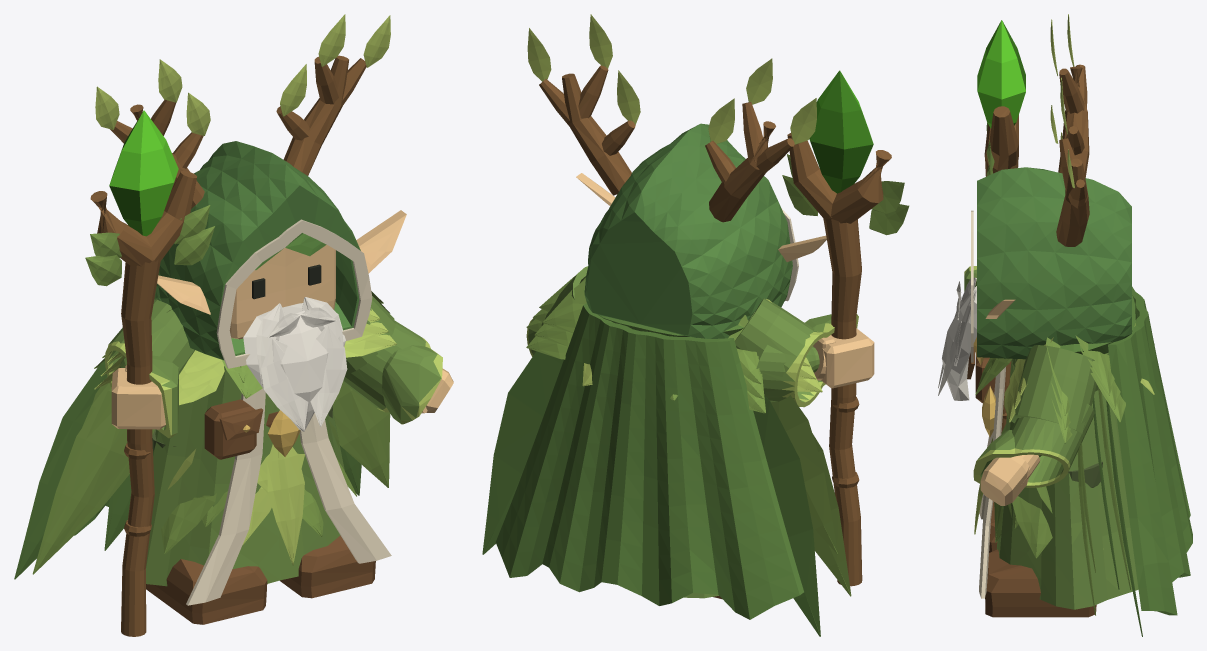
The model's file is eldergrove.glb.
3 views of the same model, side by side, from view 1: azimuth 30°, elevation 25°; view 2: azimuth 150°, elevation 25°; view 3: azimuth 270°, elevation 25° (orthographic). The views are drawn at different scales.
Parts seen in each view (by area): view 1: Hood — peaked source fold facets and closed fitted inner cav, Robe — connected shaped bell with coherent radial cloth fold, RIGHT staff — connected bent living wood shaft, RIGHT outer diagonal cloak leaf fan 2, LEFT nature arm — full outer sleeve with open fitted wrist c, Staff source primary large faceted focus, RIGHT robe broad flat pointed panel border, Head — one continuous bevelled jaw cheek forehead and concea, LEFT robe broad flat pointed panel border, Hood — broad light cloth face border with unchanged aperture, RIGHT boot — broad source angular toe ankle and fitted shaft, RIGHT staff arm — full outer sleeve with open fitted wrist c (+34 smaller); view 2: Cape — connected draped folded rear fabric with source scall, Hood — peaked source fold facets and closed fitted inner cav, RIGHT staff — connected bent living wood shaft, LEFT cloak overlapping long leaf fold 3, RIGHT cloak overlapping long leaf fold 3, RIGHT staff arm — full outer sleeve with open fitted wrist c, Staff source primary large faceted focus, RIGHT outer diagonal cloak leaf fan 1, LEFT antler — shaped main branch, RIGHT staff arm hand — compact source grip palm and thumb so, RIGHT antler — shaped main branch, RIGHT staff fork — substantial tapering wood branch (+19 smaller); view 3: Hood — peaked source fold facets and closed fitted inner cav, Cape — connected draped folded rear fabric with source scall, Robe — connected shaped bell with coherent radial cloth fold, LEFT nature arm — full outer sleeve with open fitted wrist c, LEFT boot — broad source angular toe ankle and fitted shaft, Staff source primary large faceted focus, LEFT nature arm hand — connected planar source palm wrist an, White beard — connected broad triangular fan and pointed pla, LEFT antler — shaped main branch, LEFT staff fork — substantial tapering wood branch, LEFT robe broad flat pointed panel border, Tunic skirt — overlapping pointed leaf tier 2 panel 5 (+18 smaller).
Boxes of the visible parts, <box> form: Hood — peaked source fold facets and closed fitted inner cav: <box>155,141,360,360</box>; Robe — connected shaped bell with coherent radial cloth fold: <box>146,369,348,586</box>; RIGHT staff — connected bent living wood shaft: <box>121,259,160,636</box>; RIGHT outer diagonal cloak leaf fan 2: <box>32,388,153,574</box>; LEFT nature arm — full outer sleeve with open fitted wrist c: <box>343,296,442,424</box>; Staff source primary large faceted focus: <box>109,110,178,236</box>; RIGHT robe broad flat pointed panel border: <box>186,388,265,605</box>; Head — one continuous bevelled jaw cheek forehead and concea: <box>229,245,335,339</box>; LEFT robe broad flat pointed panel border: <box>299,413,391,563</box>; Hood — broad light cloth face border with unchanged aperture: <box>216,219,372,368</box>; RIGHT boot — broad source angular toe ankle and fitted shaft: <box>146,559,267,624</box>; RIGHT staff arm — full outer sleeve with open fitted wrist c: <box>104,299,194,438</box>; Cape — connected draped folded rear fabric with source scall: <box>495,303,803,619</box>; Hood — peaked source fold facets and closed fitted inner cav: <box>584,123,792,338</box>; RIGHT staff — connected bent living wood shaft: <box>823,218,862,586</box>; LEFT cloak overlapping long leaf fold 3: <box>482,351,563,554</box>; RIGHT cloak overlapping long leaf fold 3: <box>753,396,820,636</box>; RIGHT staff arm — full outer sleeve with open fitted wrist c: <box>735,298,858,407</box>; Staff source primary large faceted focus: <box>809,70,873,193</box>; RIGHT outer diagonal cloak leaf fan 1: <box>771,395,837,554</box>; LEFT antler — shaped main branch: <box>562,73,631,195</box>; RIGHT staff arm hand — compact source grip palm and thumb so: <box>813,328,874,388</box>; RIGHT antler — shaped main branch: <box>709,121,775,222</box>; RIGHT staff fork — substantial tapering wood branch: <box>829,150,891,223</box>; Hood — peaked source fold facets and closed fitted inner cav: <box>977,167,1131,359</box>; Cape — connected draped folded rear fabric with source scall: <box>1108,286,1192,615</box>; Robe — connected shaped bell with coherent radial cloth fold: <box>996,359,1138,609</box>; LEFT nature arm — full outer sleeve with open fitted wrist c: <box>973,345,1096,487</box>; LEFT boot — broad source angular toe ankle and fitted shaft: <box>985,549,1096,617</box>; Staff source primary large faceted focus: <box>977,20,1025,128</box>; LEFT nature arm hand — connected planar source palm wrist an: <box>980,454,1040,505</box>; White beard — connected broad triangular fan and pointed pla: <box>942,286,976,400</box>; LEFT antler — shaped main branch: <box>1056,158,1089,246</box>; LEFT staff fork — substantial tapering wood branch: <box>984,106,1018,170</box>; LEFT robe broad flat pointed panel border: <box>979,367,1005,598</box>; Tunic skirt — overlapping pointed leaf tier 2 panel 5: <box>1012,496,1052,558</box>.
Bounding box in the file's own units: 0.8726 × 1.21 × 0.5441.
